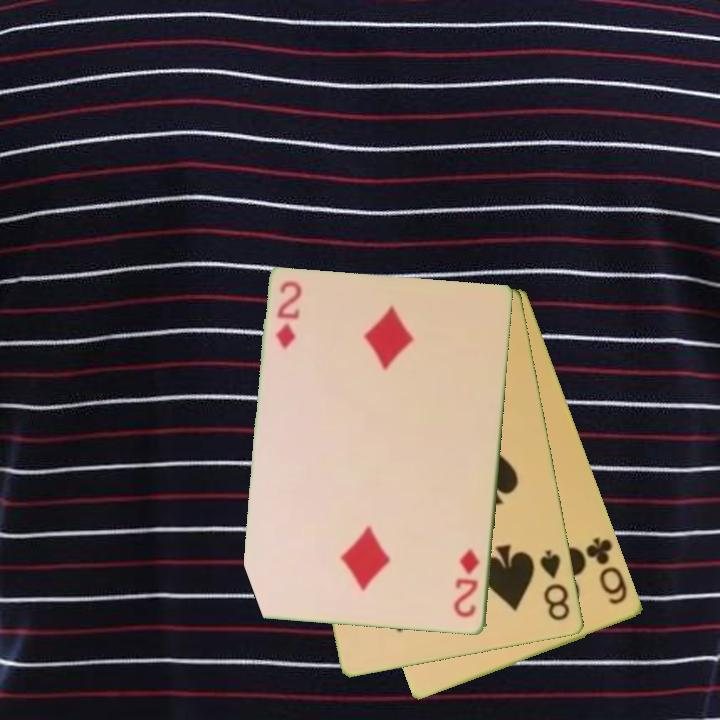2d: (450, 546, 482, 621), (272, 278, 303, 352)
6c: (583, 533, 631, 608)
8s: (537, 546, 573, 624)
